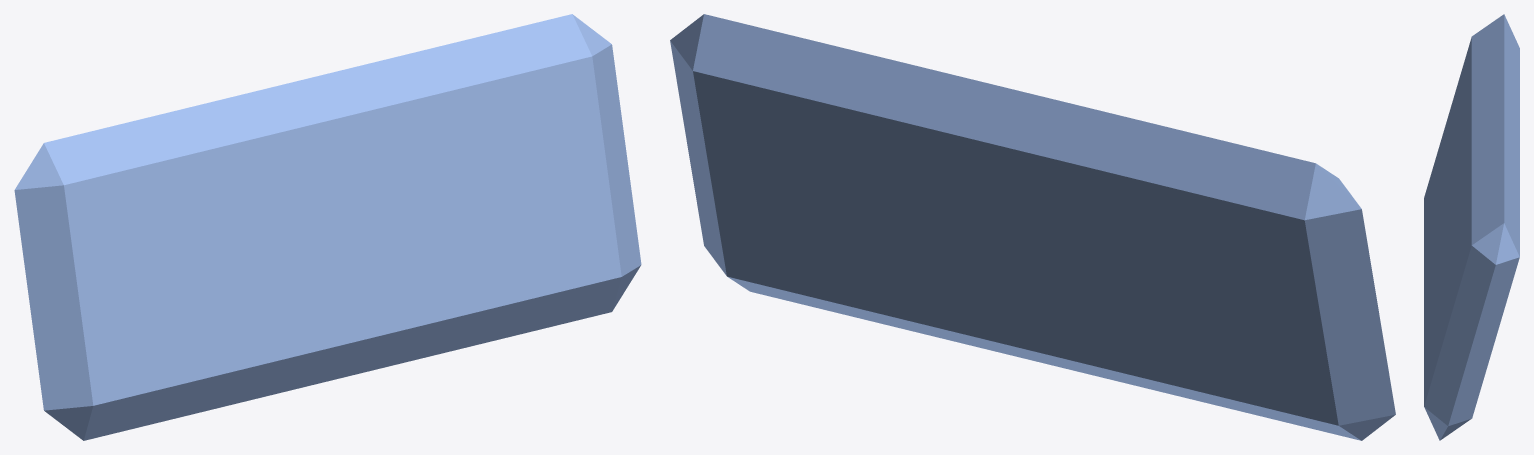
Rendered from pillowBlueLong.glb.
3 renders of one model, left to right at view 1: azimuth 30°, elevation 25°; view 2: azimuth 150°, elevation 25°; view 3: azimuth 270°, elevation 25°, orthographic. The views are drawn at different scales.
Visible parts, largest first — view 1: pillowBlueLong(Clone); view 2: pillowBlueLong(Clone); view 3: pillowBlueLong(Clone).
Boxes of the visible parts, left/top/right/bottom form: pillowBlueLong(Clone): left=14, top=14, right=641, bottom=440; pillowBlueLong(Clone): left=670, top=14, right=1395, bottom=440; pillowBlueLong(Clone): left=1424, top=14, right=1519, bottom=440.
Size of the model in its own units: 1.05 by 0.451 by 0.1796.
1 material, 1 textured.
